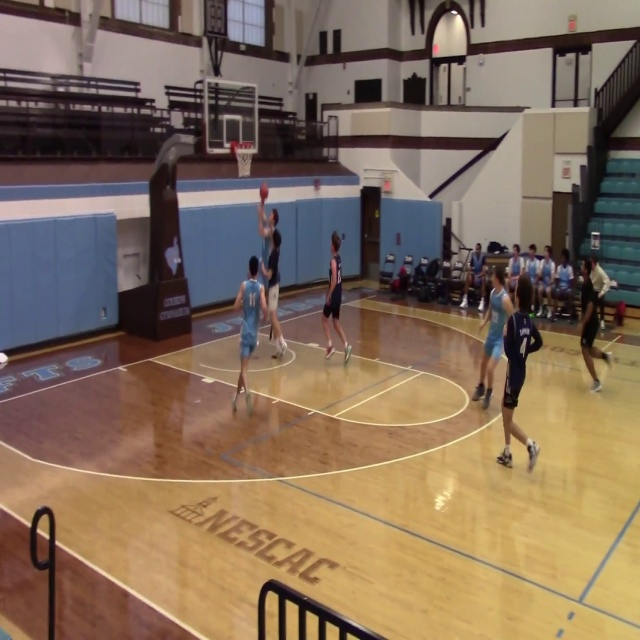Basketball: (259, 184, 268, 199), (0, 353, 8, 364)
